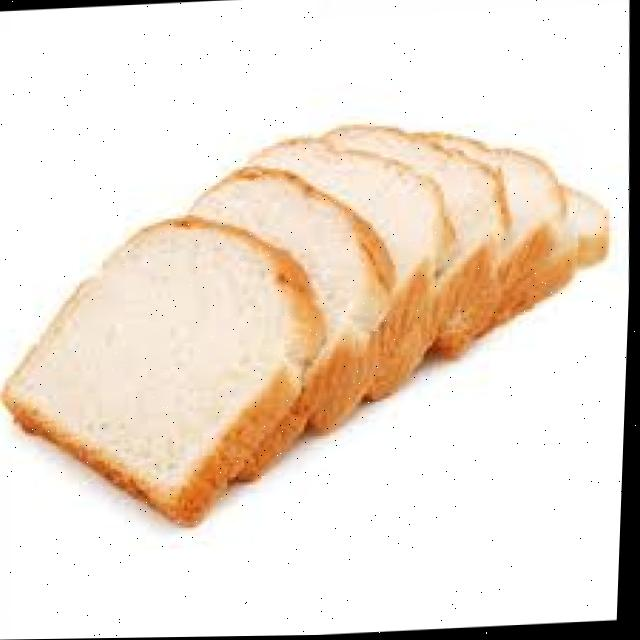Bread: (7, 218, 327, 522), (193, 168, 397, 427), (262, 144, 444, 397), (328, 130, 495, 358)
